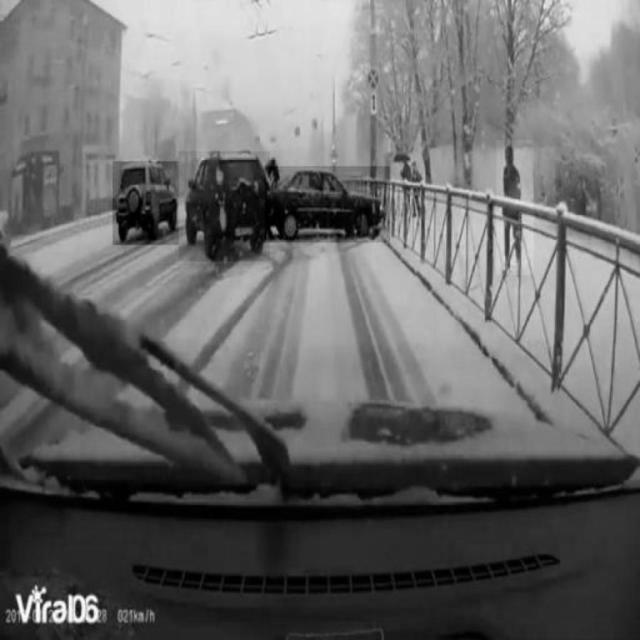person: (497, 140, 534, 274)
vehicle: (179, 151, 270, 261), (266, 166, 390, 242), (113, 162, 181, 245)
